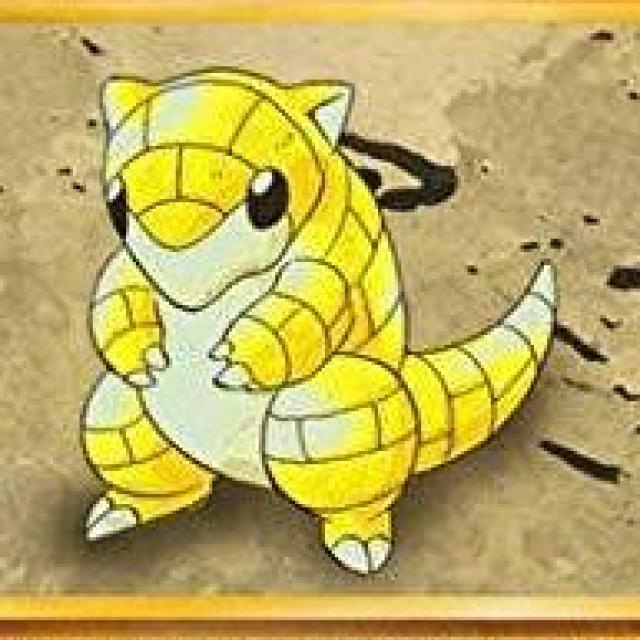Sandshrew: (63, 57, 568, 577)
